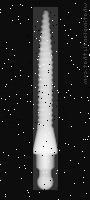3M ESPE: (28, 7, 59, 190)
